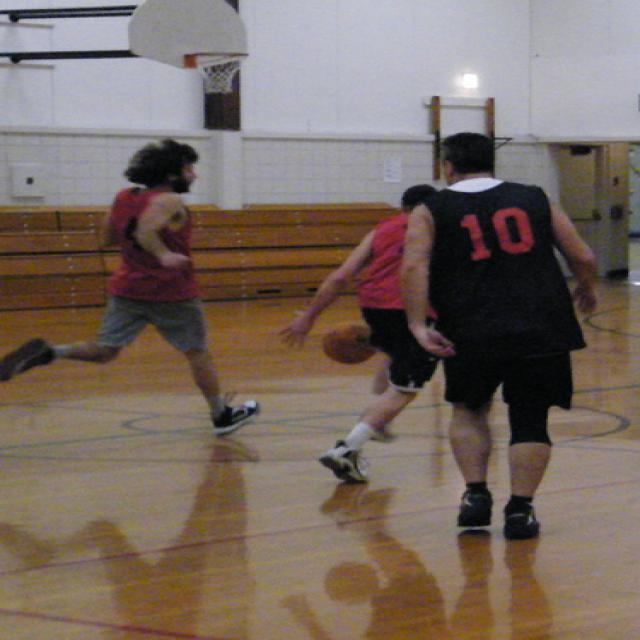basketball: (319, 320, 376, 363)
rim: (192, 50, 250, 66)
